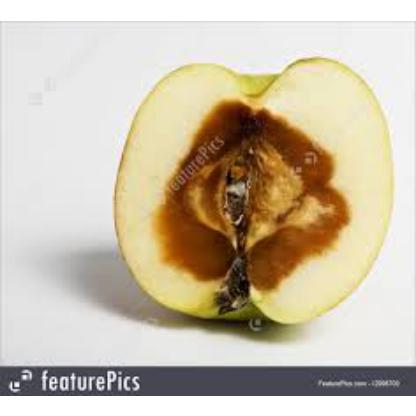apple: (106, 55, 396, 324)
